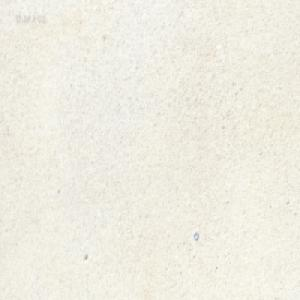Washer: (193, 231, 198, 241)
